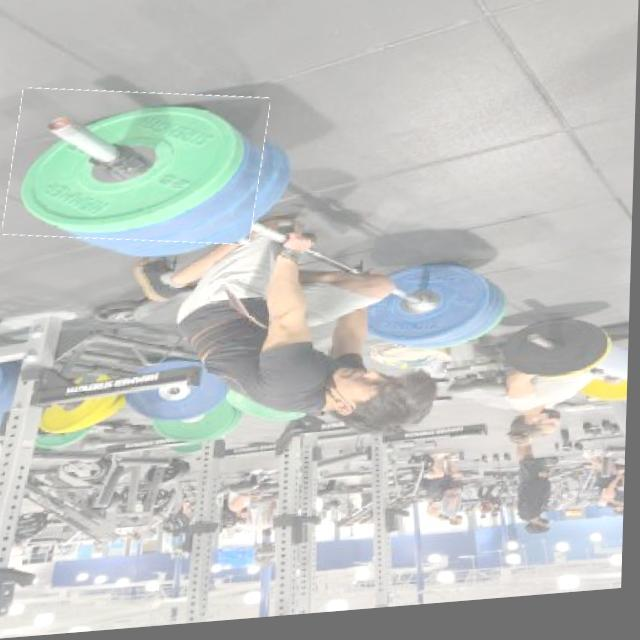barbell: (8, 81, 268, 258)
